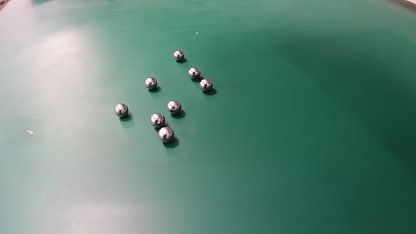ironball: (158, 126, 174, 143), (150, 113, 165, 128), (166, 100, 181, 114), (114, 103, 128, 117), (144, 77, 157, 90), (199, 78, 212, 91), (188, 67, 200, 79), (173, 50, 184, 61)
